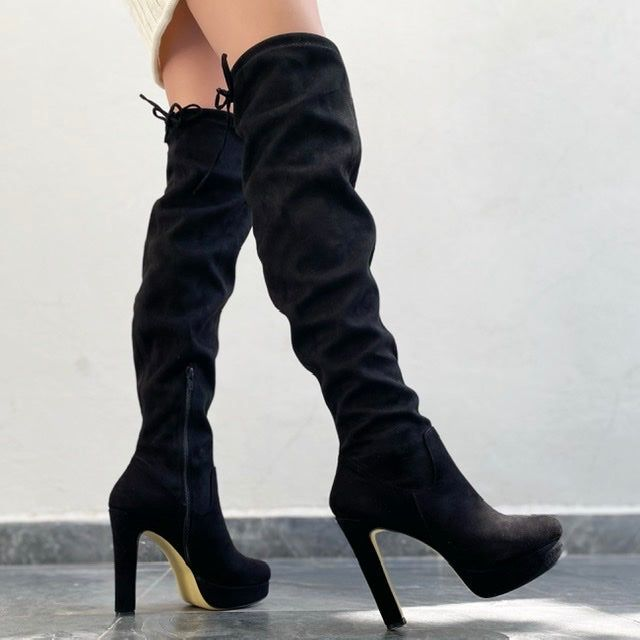gamuza: (109, 31, 565, 623)
